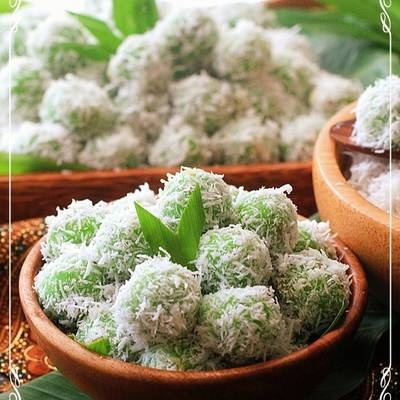klepon: (108, 263, 195, 347), (205, 287, 283, 355)
